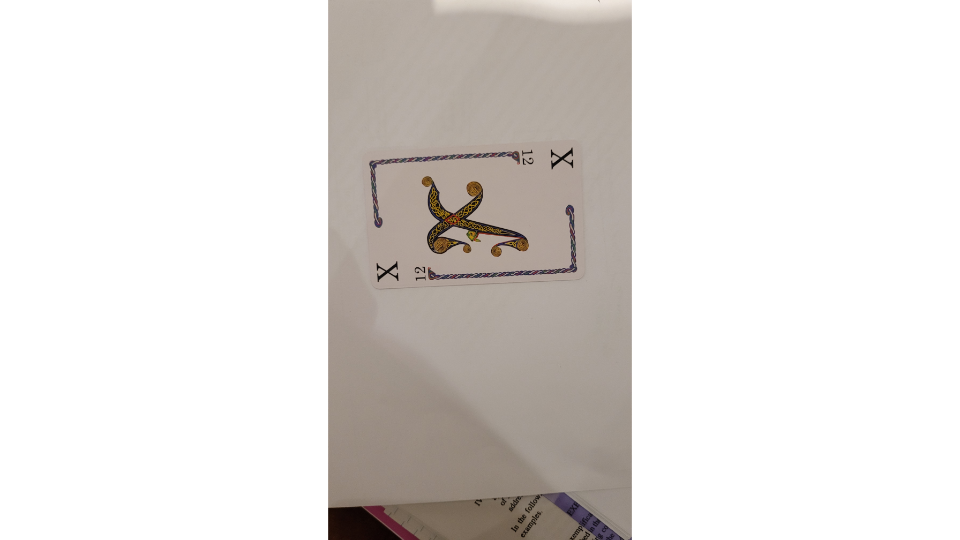X: (360, 139, 591, 291)
